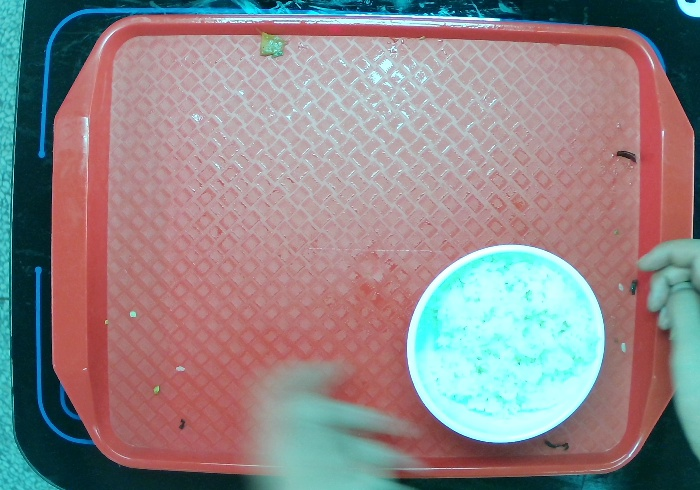YKMZ-Fan_Wan: (405, 243, 607, 448)
